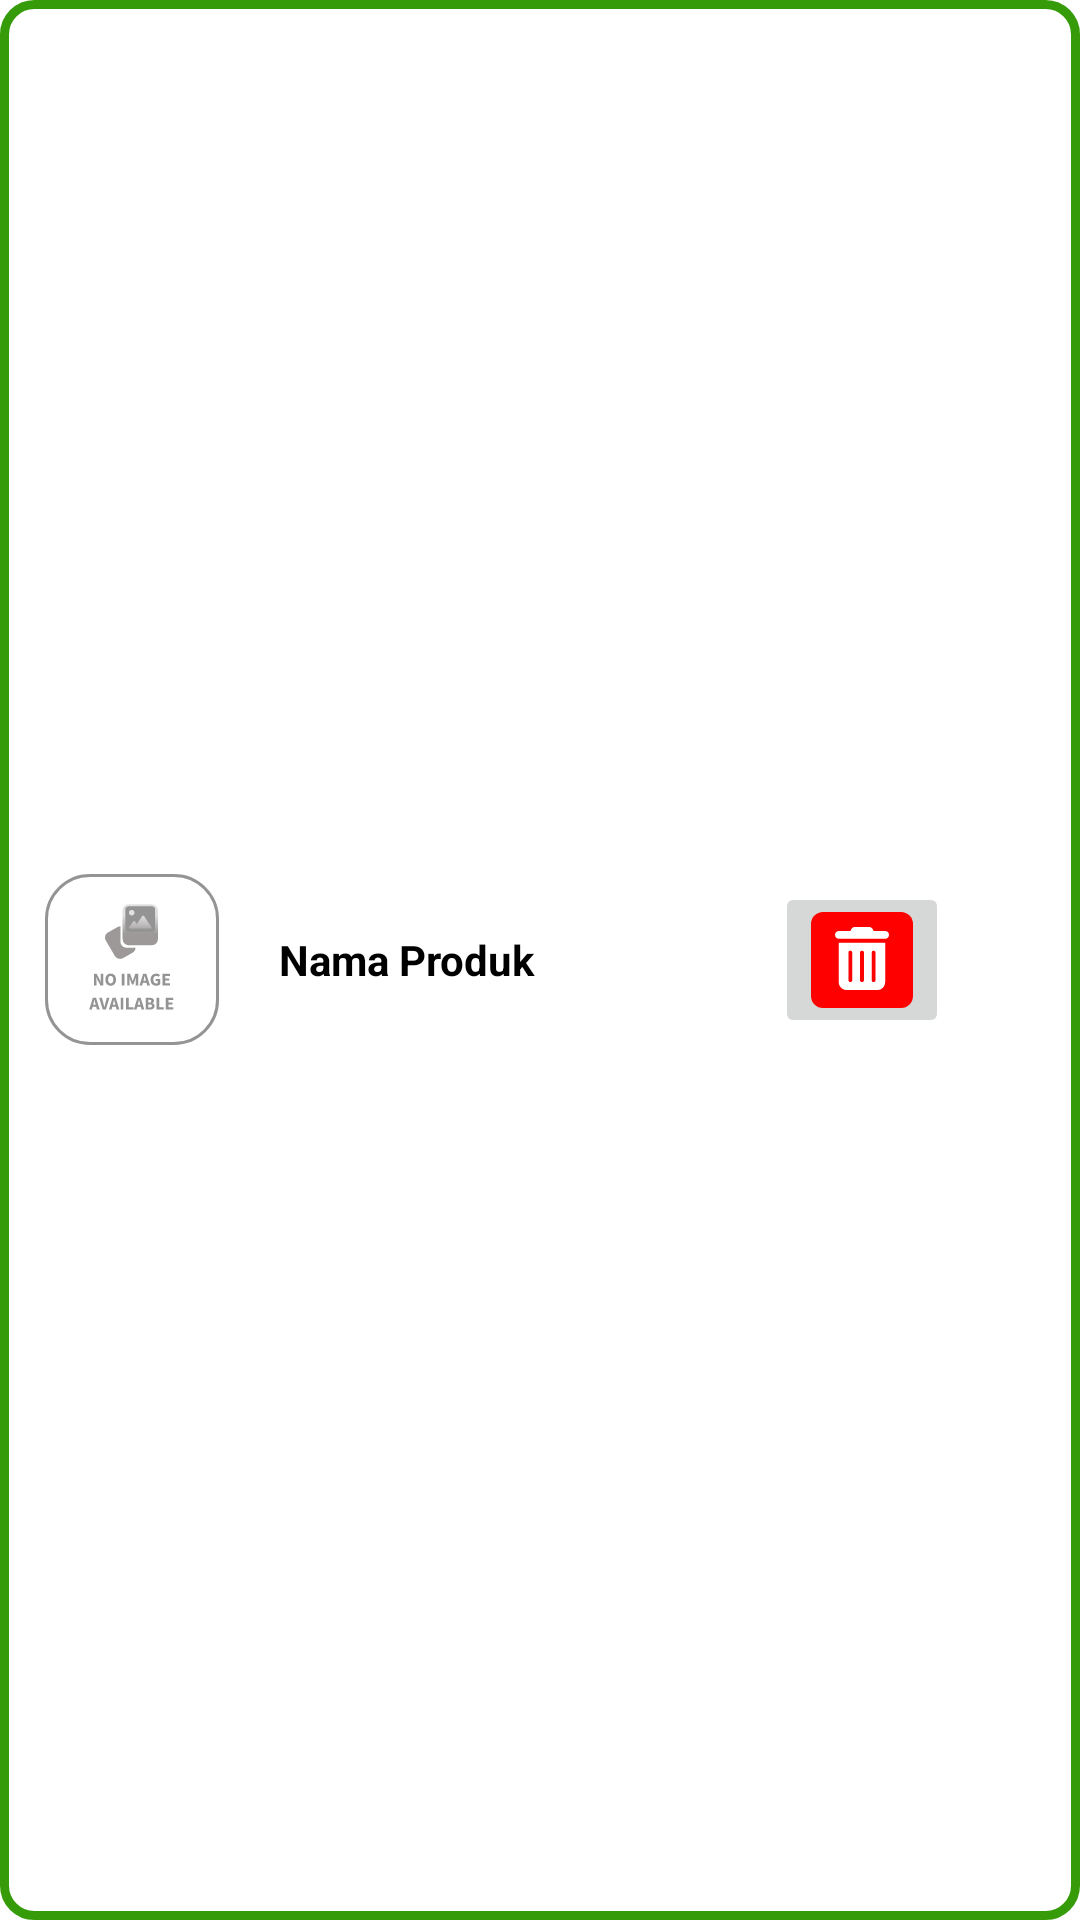

Screen size 1080 x 1920. Icon name, then its center in pixels as [x,y]:
hapus: [862,960]
